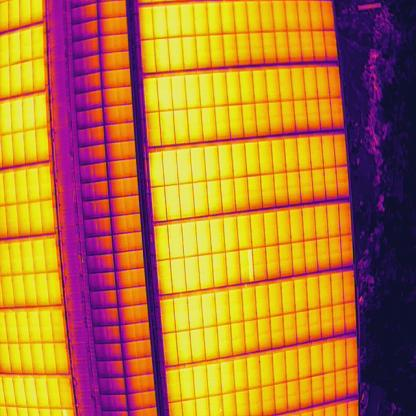diode: (247, 247, 253, 282)
